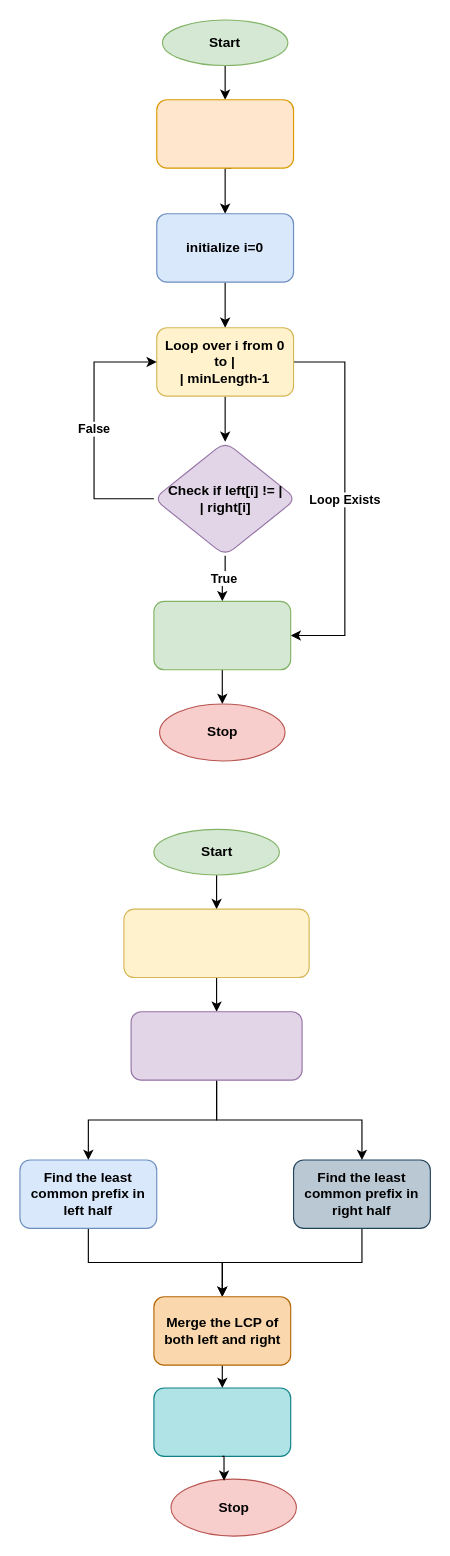
The diagram is 450 pixels wide and 1556 high, and some of its shapes have lost their labels. Each missing label, with the box of its shape:
Check if strs is empty or contains only one string: (123, 908, 309, 978)
Divide strs into two halves: (130, 1011, 302, 1080)
min of left.length and right.length: (156, 99, 294, 168)
return left.substring(0,i): (153, 600, 291, 670)
Return Overall LCP: (153, 1387, 291, 1456)
